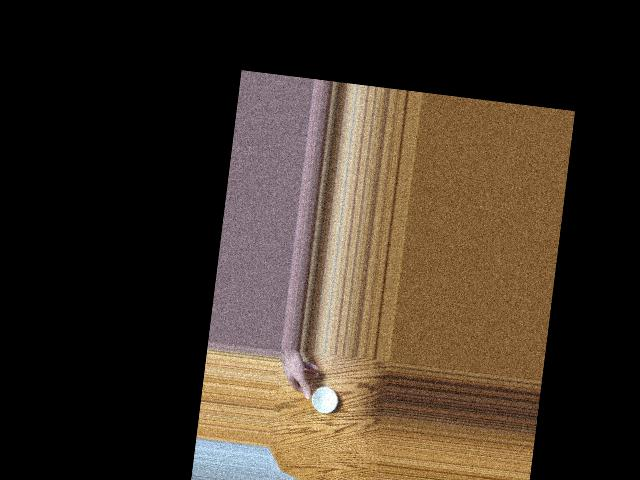cotage: (302, 379, 342, 420)
